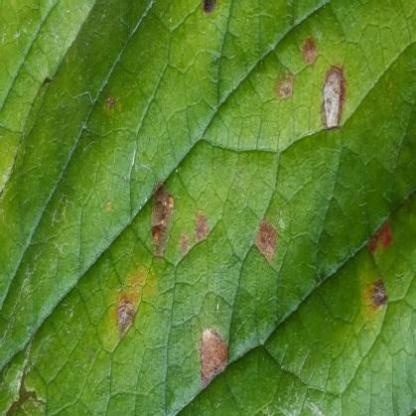Strawberry_Angular_LeafSpot: (98, 0, 414, 394)
